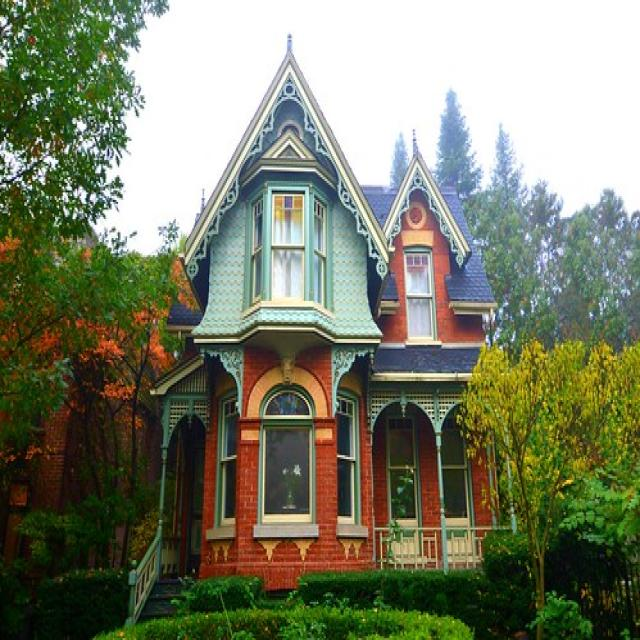building: (124, 42, 528, 630)
